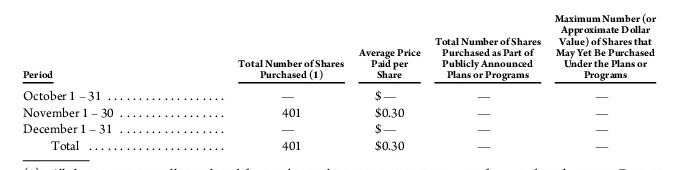table: (0, 0, 676, 170)
